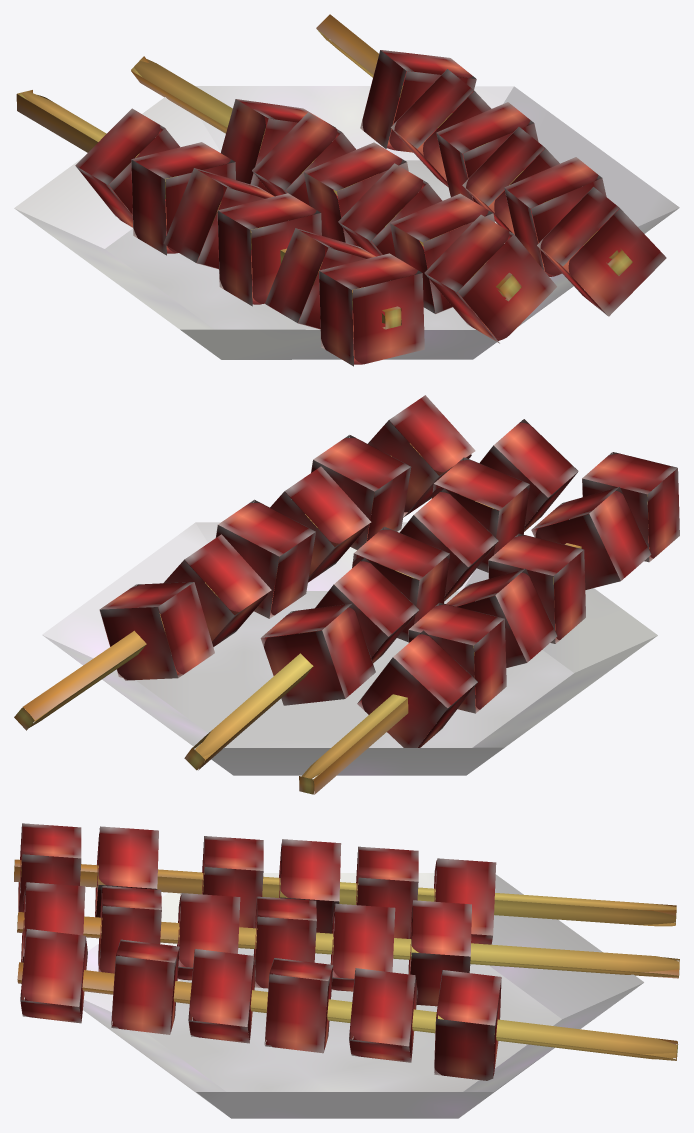
File: Poly_SF_Outside_B_Stall_Goods_01.obj
3 renders of one model, top to bottom at view 1: azimuth 30°, elevation 25°; view 2: azimuth 150°, elevation 25°; view 3: azimuth 270°, elevation 25°, orthographic. The views are drawn at different scales.
Parts seen in each view (by area): view 1: Cube.002, Cube.001; view 2: Cube.002, Cube.001; view 3: Cube.002, Cube.001.
Part boxes in pixels (x1,y1,x2,y2): Cube.002: [16, 14, 666, 366]; Cube.001: [14, 86, 679, 359]; Cube.002: [14, 395, 679, 794]; Cube.001: [42, 522, 657, 775]; Cube.002: [14, 823, 679, 1080]; Cube.001: [83, 873, 643, 1118].
Size of the model in its own units: 0.51 by 0.1617 by 0.6549.
1 material, 1 textured.
